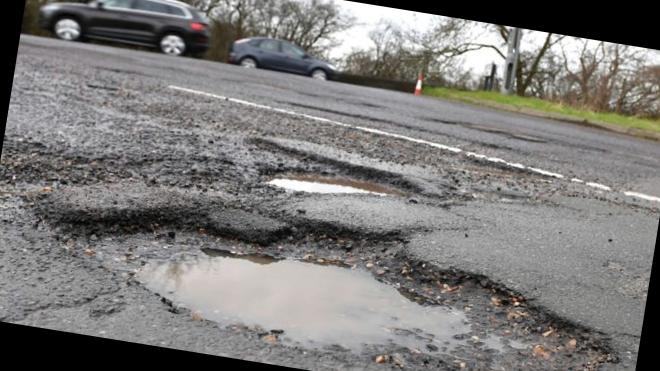pothole: (34, 179, 632, 371), (231, 130, 448, 222)
